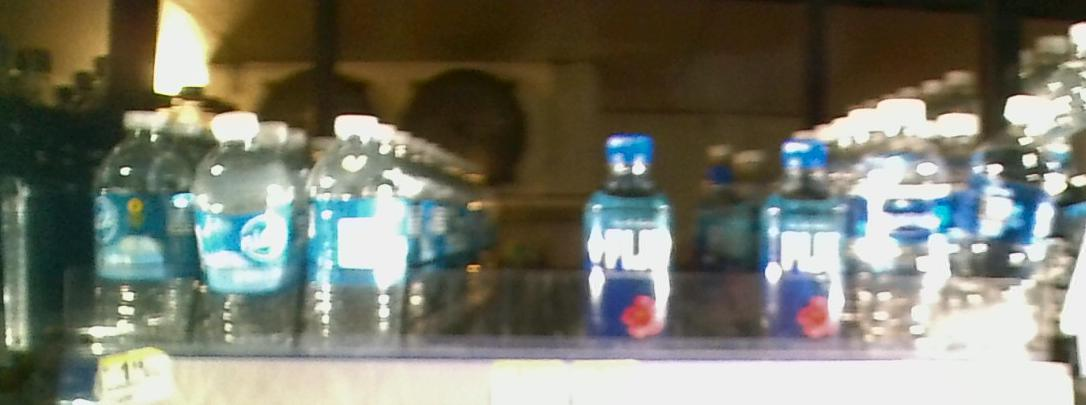bottle: (85, 108, 196, 356), (200, 104, 301, 354), (861, 94, 956, 357), (307, 112, 406, 357), (583, 122, 679, 363), (754, 134, 849, 359)
